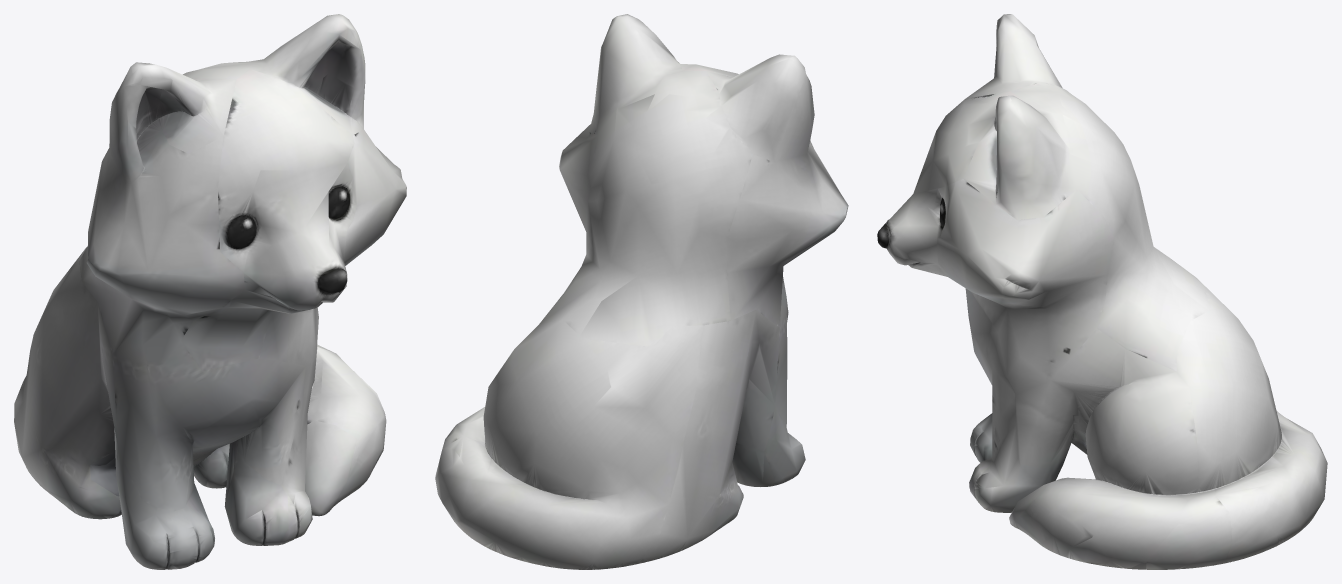
Rendered from arctic_fox_pbr.glb.
3 renders of one model, left to right at view 1: azimuth 30°, elevation 25°; view 2: azimuth 150°, elevation 25°; view 3: azimuth 270°, elevation 25°, orthographic. The views are drawn at different scales.
Visible parts, largest first — view 1: model; view 2: model; view 3: model.
Boxes of the visible parts, x1=… form: model: x1=14, y1=14, x2=406, y2=569; model: x1=435, y1=14, x2=848, y2=569; model: x1=877, y1=14, x2=1327, y2=569.
Bounding box in the file's own units: 1.37 × 1.83 × 1.74.
Materials: 1 (1 with a texture image).
